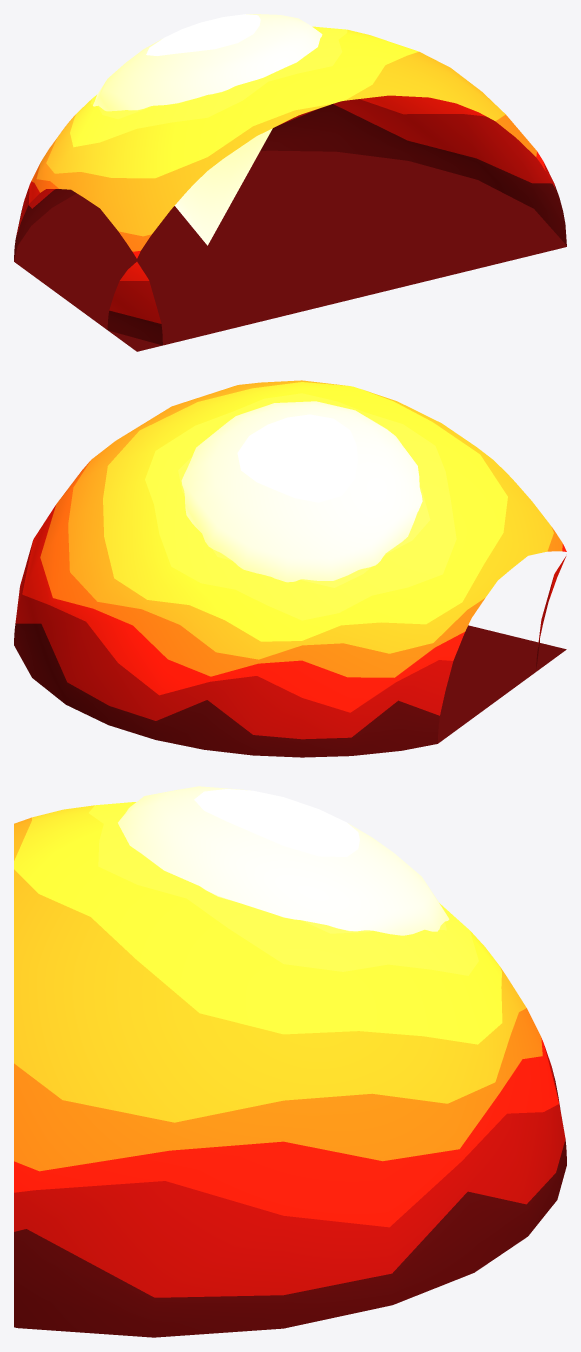
The model's file is shot_charge_b205.glb.
3 views of the same model, one above another, from view 1: azimuth 30°, elevation 25°; view 2: azimuth 150°, elevation 25°; view 3: azimuth 270°, elevation 25° (orthographic). The views are drawn at different scales.
Parts seen in each view (by area): view 1: charge_twin3_a_fire_shot_charge_b205, charge_twin3_a_core_shot_charge_b205, charge_twin3_b_fire_shot_charge_b205; view 2: charge_twin3_a_fire_shot_charge_b205, charge_twin3_a_core_shot_charge_b205, charge_twin3_b_fire_shot_charge_b205; view 3: charge_twin3_a_fire_shot_charge_b205, charge_twin3_a_core_shot_charge_b205.
Part boxes in pixels (x1=…): charge_twin3_a_fire_shot_charge_b205: x1=14, y1=26, x2=566, y2=351; charge_twin3_a_core_shot_charge_b205: x1=93, y1=14, x2=322, y2=245; charge_twin3_b_fire_shot_charge_b205: x1=107, y1=262, x2=162, y2=350; charge_twin3_a_fire_shot_charge_b205: x1=14, y1=380, x2=566, y2=757; charge_twin3_a_core_shot_charge_b205: x1=181, y1=401, x2=422, y2=582; charge_twin3_b_fire_shot_charge_b205: x1=536, y1=556, x2=566, y2=671; charge_twin3_a_fire_shot_charge_b205: x1=14, y1=802, x2=566, y2=1337; charge_twin3_a_core_shot_charge_b205: x1=118, y1=786, x2=449, y2=935.
Bounding box in the file's own units: 11 × 5.37 × 8.
